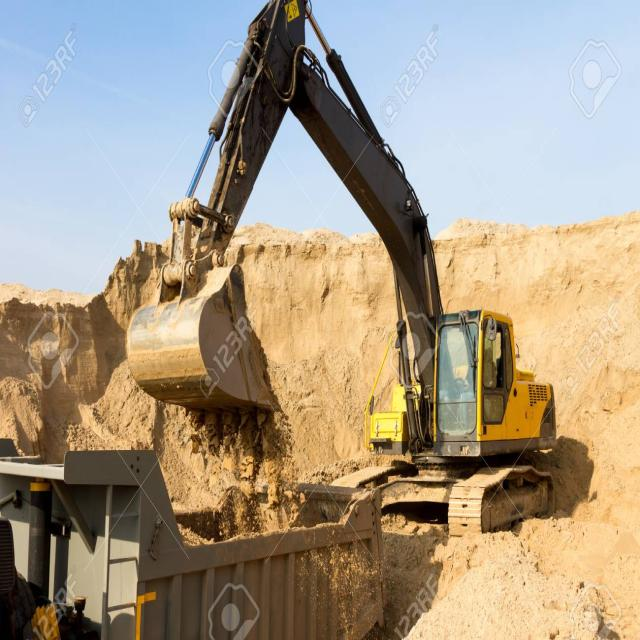machinery: (139, 2, 568, 529), (0, 440, 378, 640)
